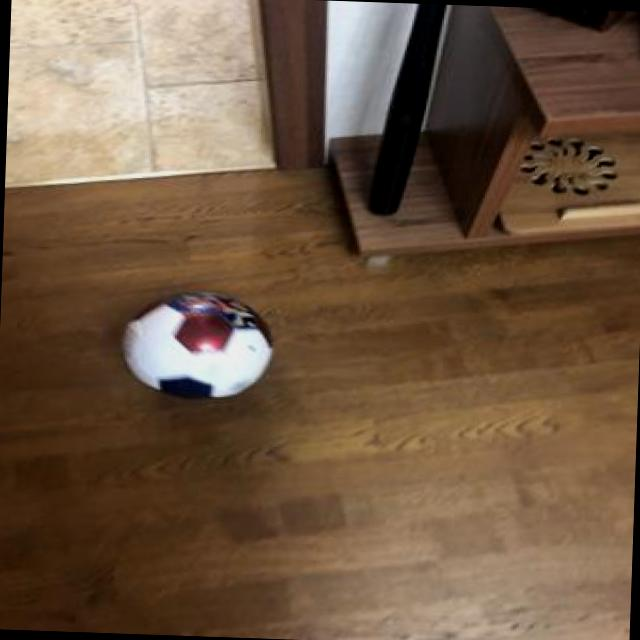Soccer Ball: (117, 284, 276, 401)
